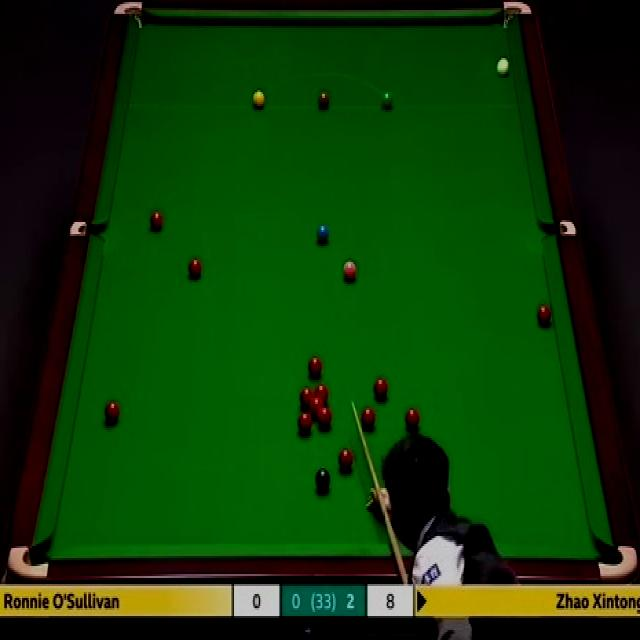pocket: (594, 538, 638, 578), (7, 544, 50, 582), (503, 0, 531, 29), (113, 0, 144, 26), (544, 217, 578, 238), (70, 220, 103, 234)
